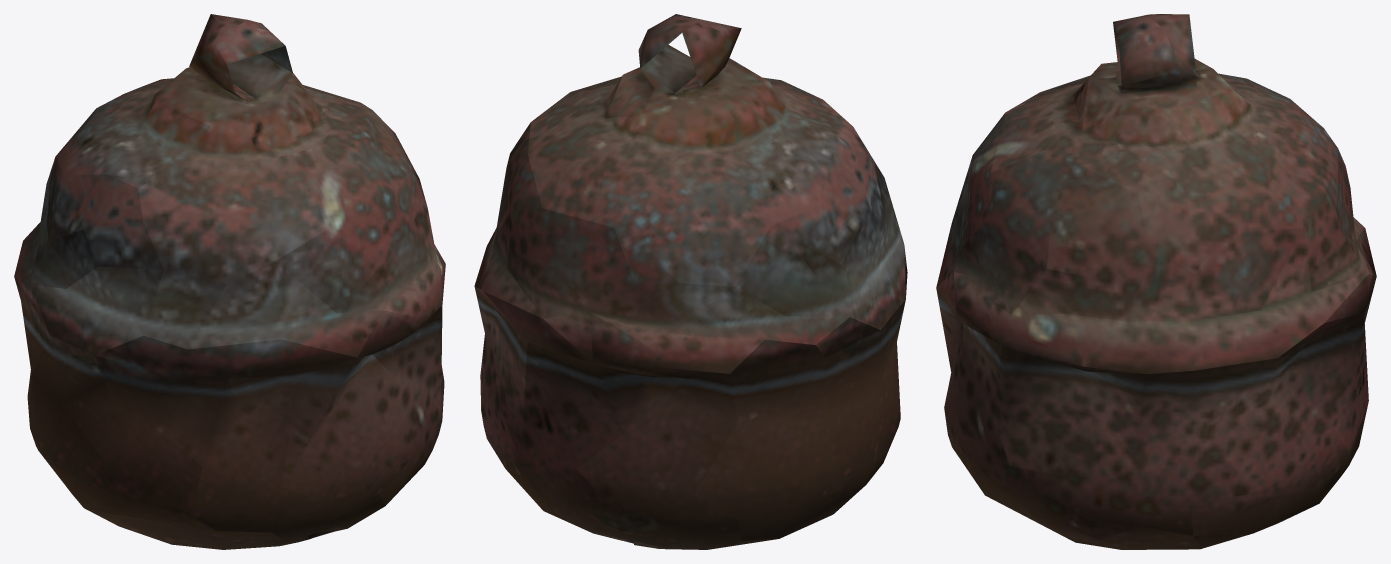
The model's file is Q_Bell.fbx.
3 views of the same model, side by side, from view 1: azimuth 30°, elevation 25°; view 2: azimuth 150°, elevation 25°; view 3: azimuth 270°, elevation 25° (orthographic).
Parts seen in each view (by area): view 1: Aset_other__S_udmmcedqx_LOD5; view 2: Aset_other__S_udmmcedqx_LOD5; view 3: Aset_other__S_udmmcedqx_LOD5.
Part boxes in pixels (left/top/right/bottom): Aset_other__S_udmmcedqx_LOD5: left=14, top=14, right=445, bottom=549; Aset_other__S_udmmcedqx_LOD5: left=474, top=14, right=907, bottom=549; Aset_other__S_udmmcedqx_LOD5: left=936, top=14, right=1376, bottom=549.
Bounding box in the file's own units: 4.7 × 5.93 × 4.76.
